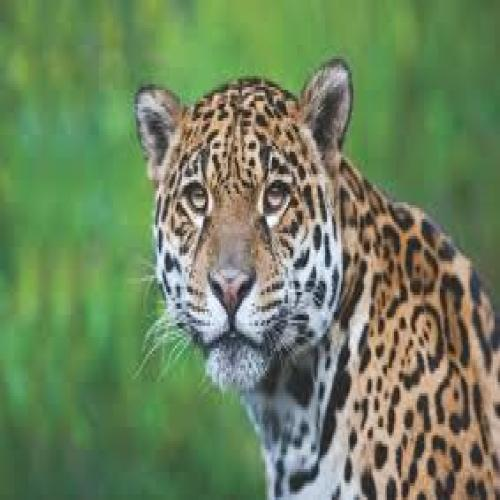jaguar_not-endangered: (135, 55, 500, 497)
